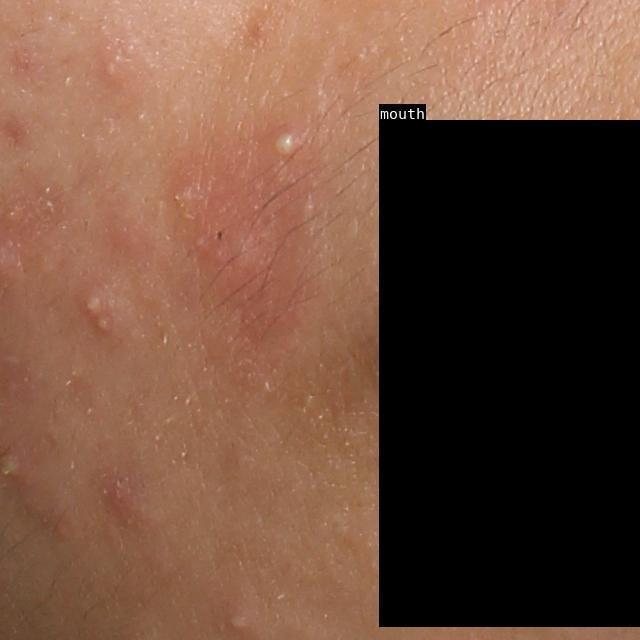pustule: (263, 121, 309, 163), (224, 608, 253, 638), (82, 291, 107, 320), (93, 315, 115, 335)
